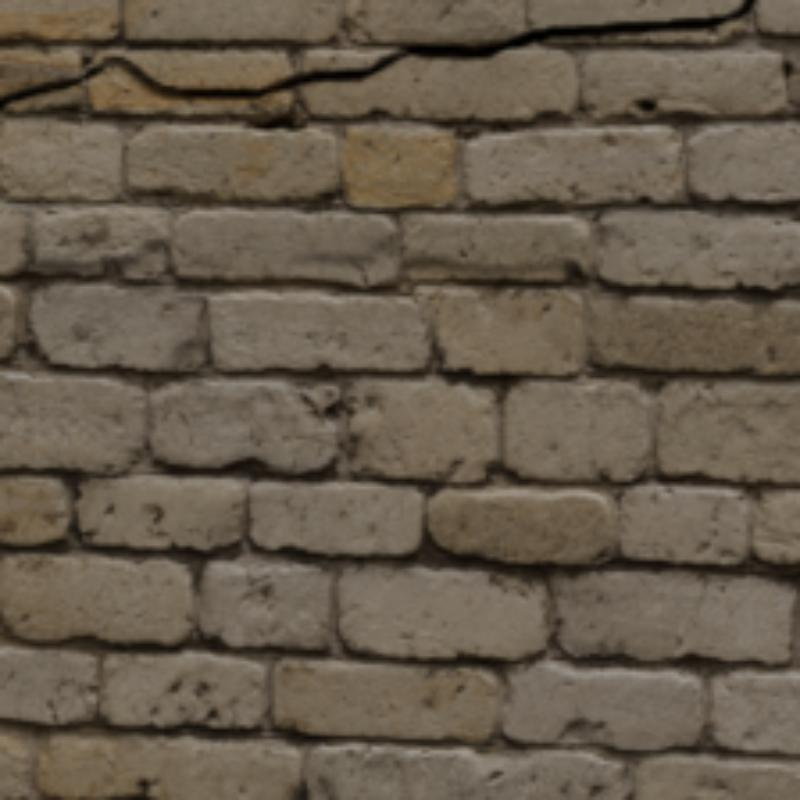pothole: (3, 2, 753, 109)
